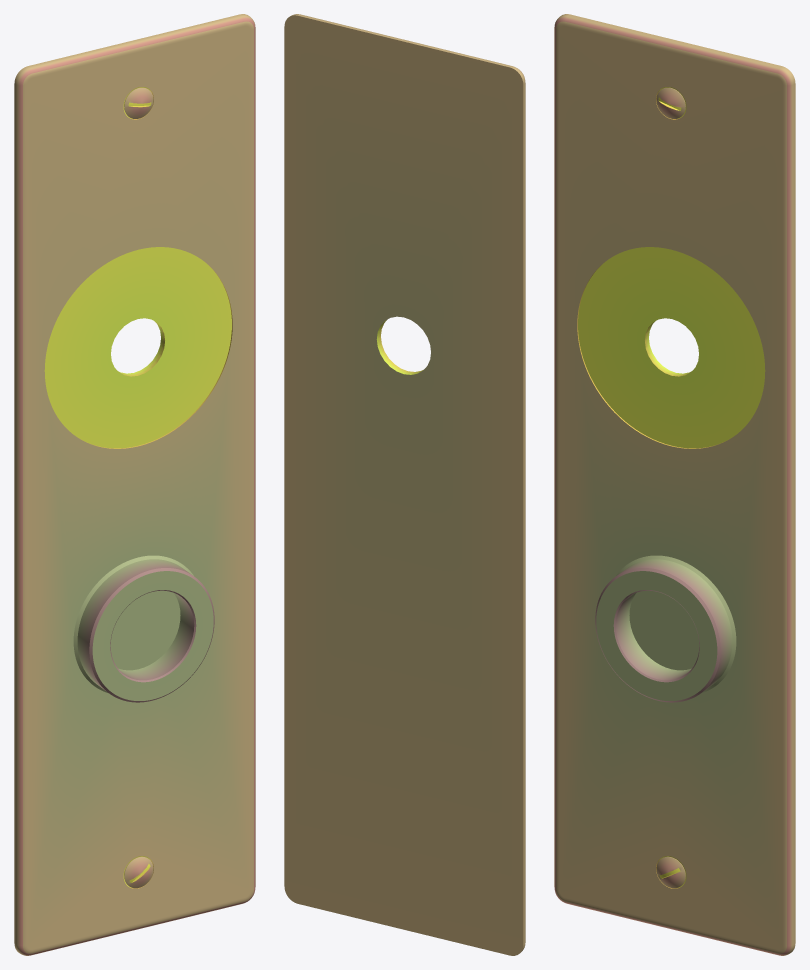
Rendered from Kit_Lock_Escutcheon_Brass.fbx.
3 renders of one model, left to right at view 1: azimuth 30°, elevation 25°; view 2: azimuth 150°, elevation 25°; view 3: azimuth 330°, elevation 25°, orthographic.
Parts seen in each view (by area): view 1: Kit_Lock_Escutcheon_LOD0; view 2: Kit_Lock_Escutcheon_LOD0; view 3: Kit_Lock_Escutcheon_LOD0.
Boxes of the visible parts, <box> form: Kit_Lock_Escutcheon_LOD0: <box>14,14,255,955</box>; Kit_Lock_Escutcheon_LOD0: <box>284,14,525,955</box>; Kit_Lock_Escutcheon_LOD0: <box>554,14,795,955</box>.
Size of what is drawn, in the model's own units: 0.0572 by 0.2032 by 0.008.
